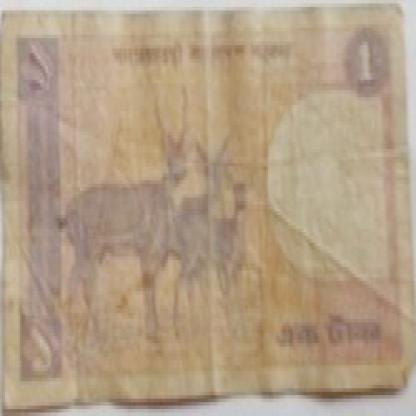One Taka: (273, 312, 384, 354), (20, 315, 63, 378), (17, 38, 58, 101), (348, 31, 382, 94)
